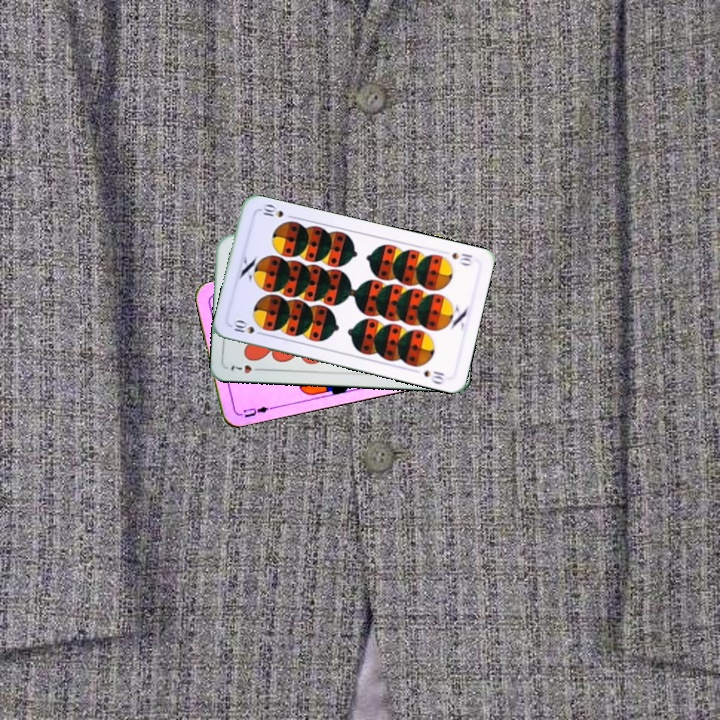EU: (235, 402, 275, 420)
H7: (227, 360, 265, 376)
S10: (230, 317, 267, 338), (448, 248, 475, 268)
